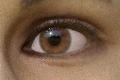eye: (41, 28, 71, 53)
